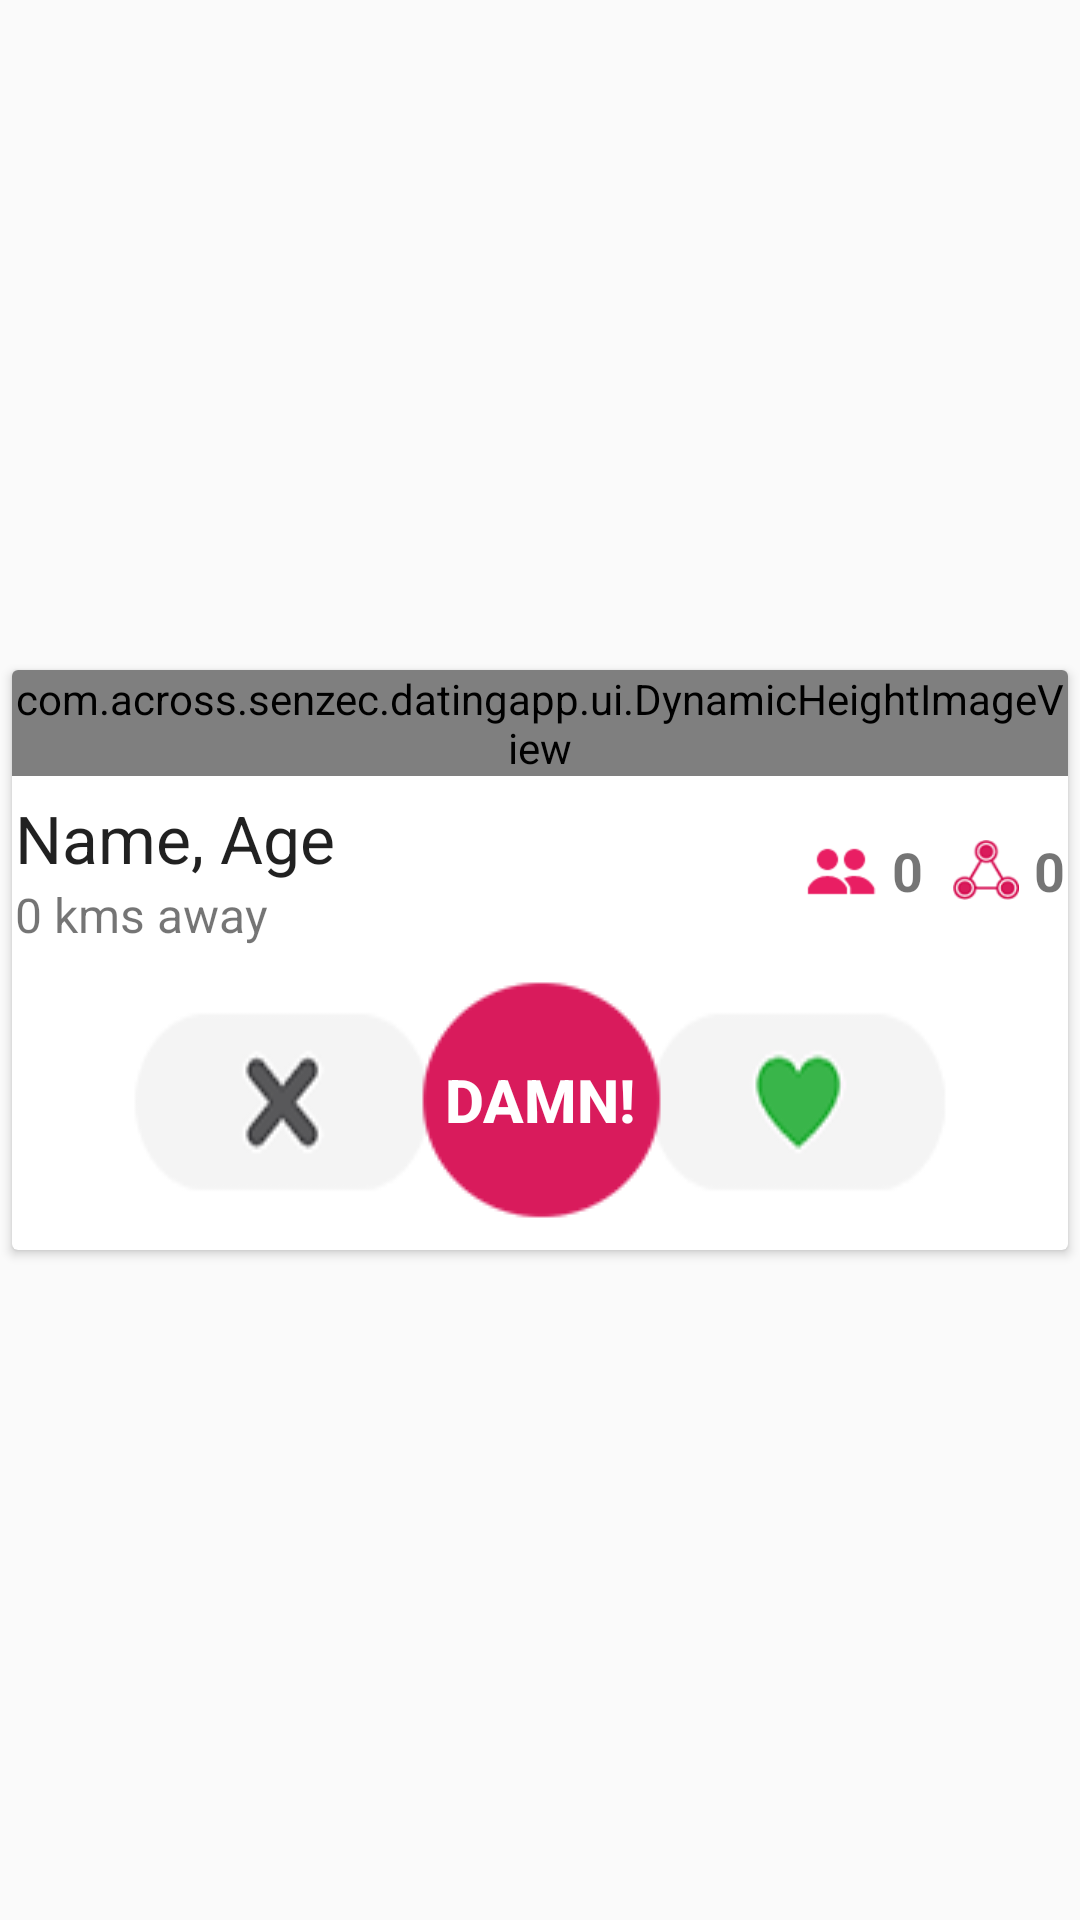

Named icons in this screenshot (1080 x 1920) and their centers, (x=x, y=y):
cross: (x=282, y=1103)
friends: (x=841, y=871)
heart: (x=798, y=1102)
interests: (x=986, y=870)
